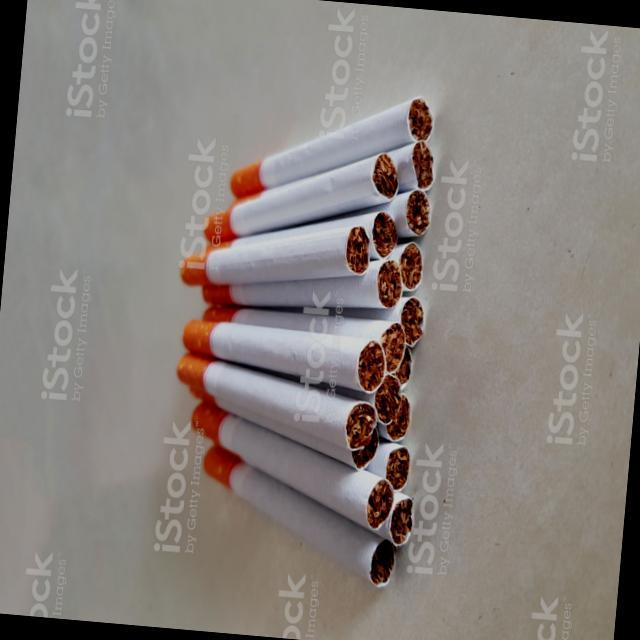cigarette: (164, 310, 390, 389)
